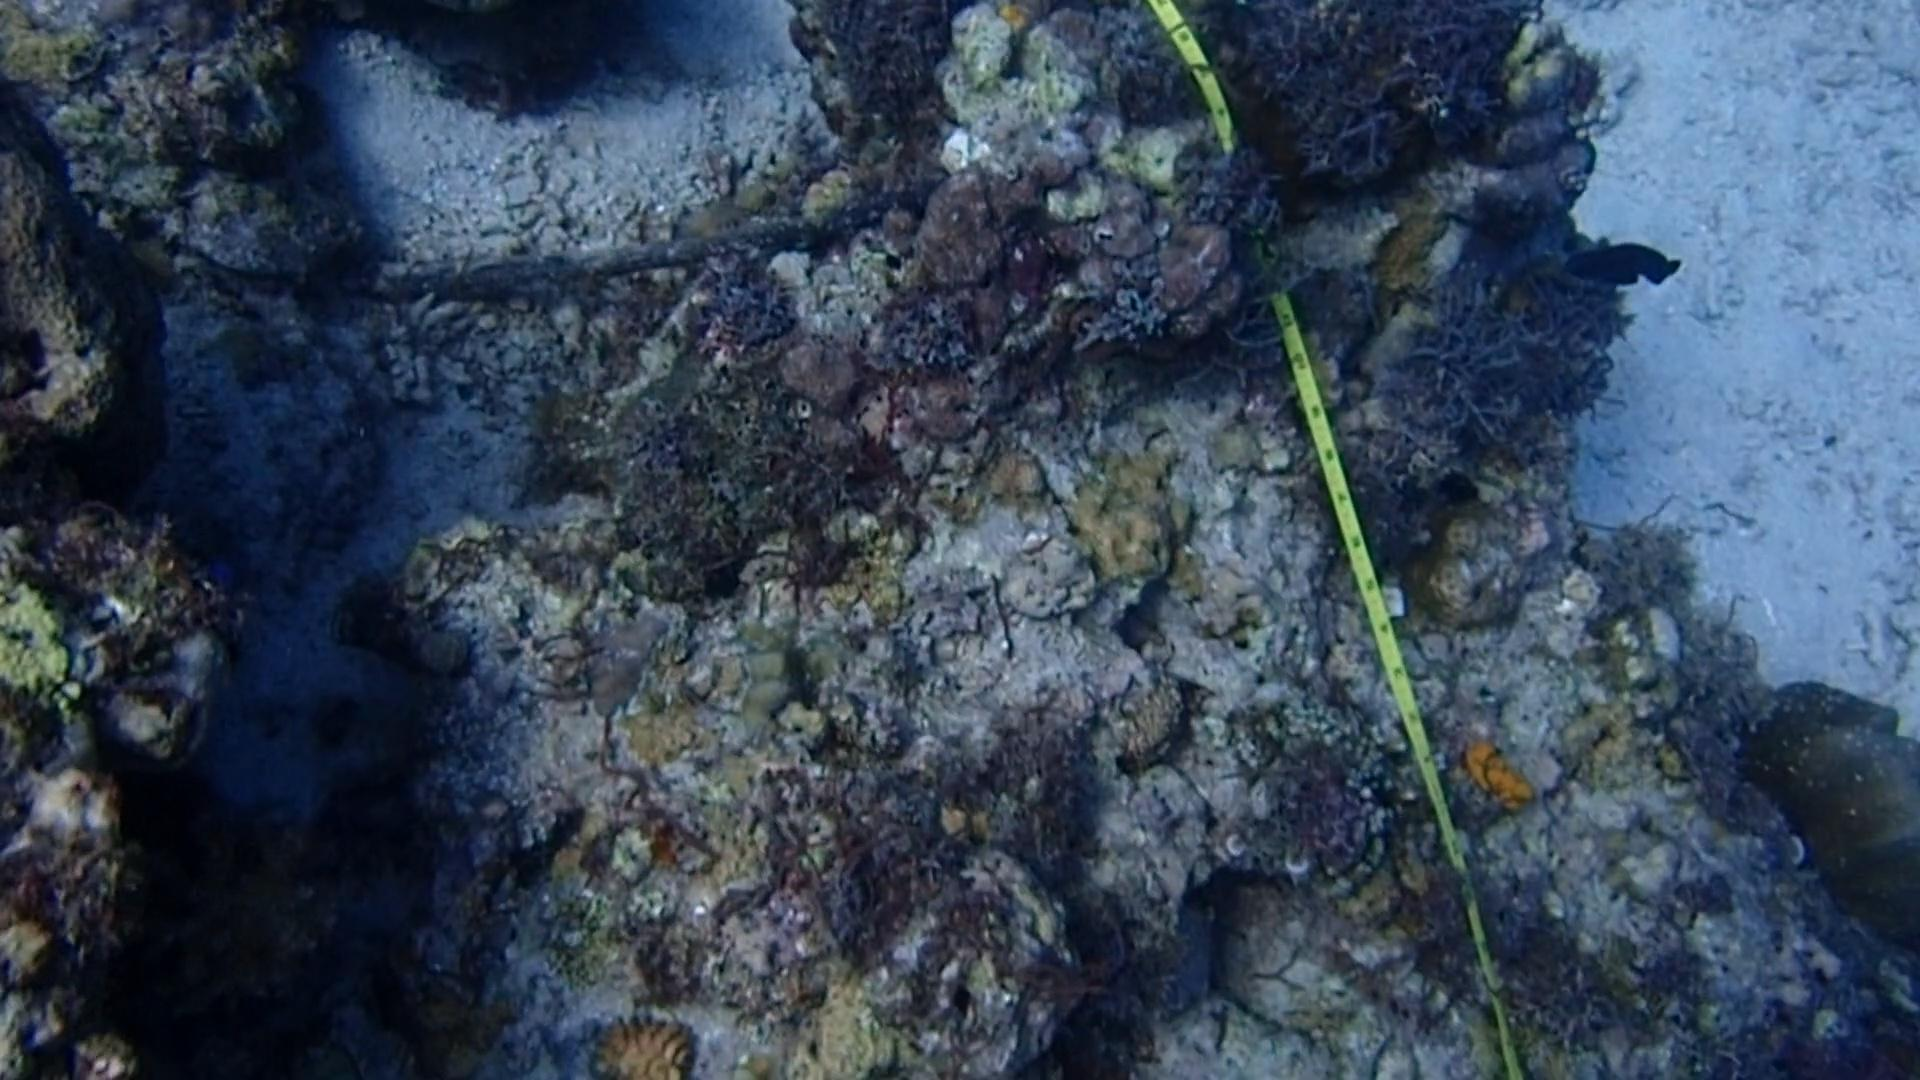Dark Fish: (1551, 231, 1692, 301)
